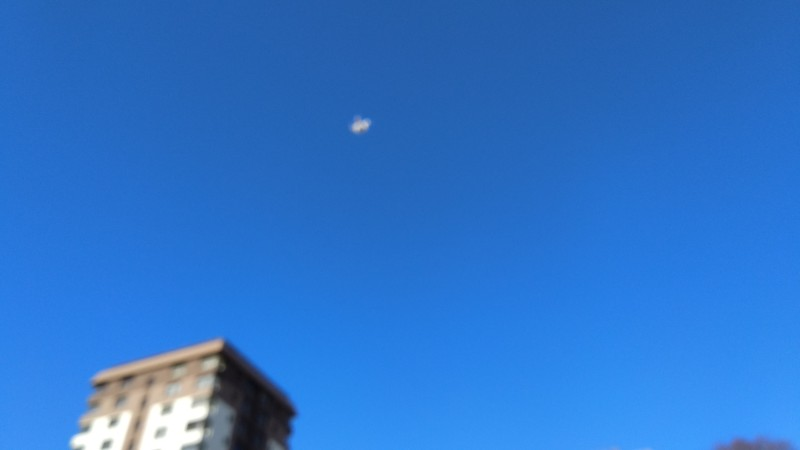drone: (348, 113, 372, 134)
